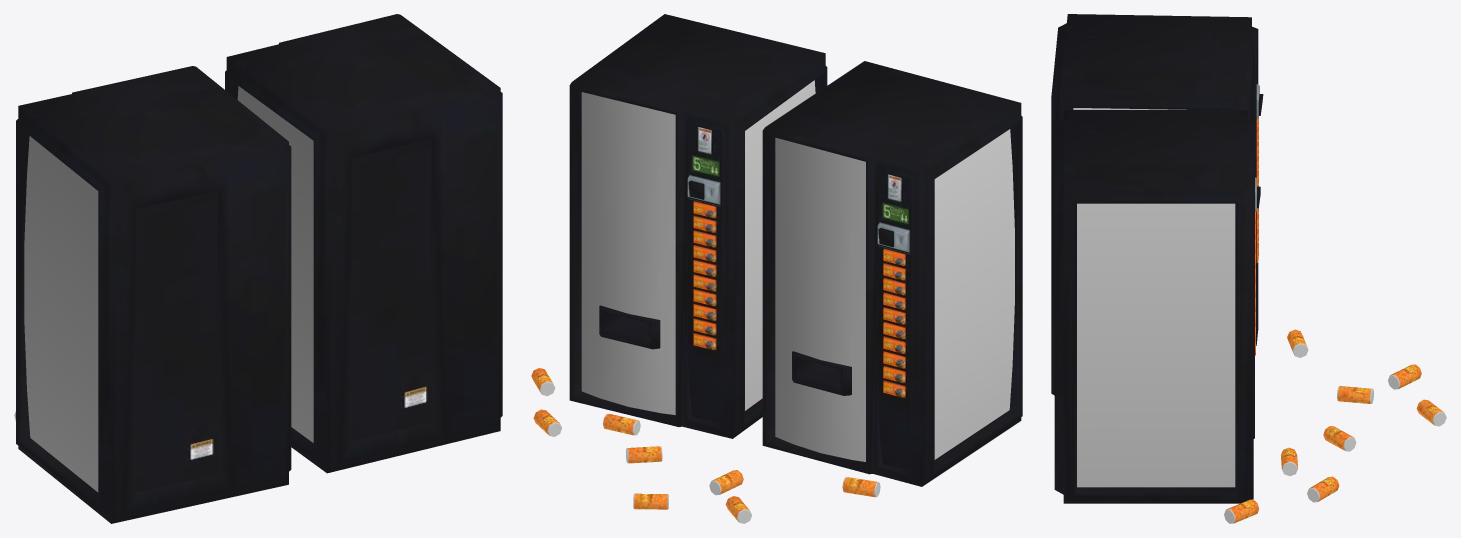
The model's file is soda.glb.
The picture shows the model from 3 angles, left to right: view 1: azimuth 30°, elevation 25°; view 2: azimuth 150°, elevation 25°; view 3: azimuth 270°, elevation 25°; orthographic projection. The views are drawn at different scales.
Visible parts, largest first — view 1: SodaMachine_FizzRoy, SodaMachine_Fynyss; view 2: SodaMachine_FizzRoy, SodaMachine_Fynyss, SodaCan_FizzRoy001, SodaCan_Fynyss004, SodaCan_Fynyss003, SodaCan_FizzRoy002; view 3: SodaMachine_Fynyss, SodaMachine_FizzRoy, SodaCan_FizzRoy, SodaCan_Fynyss, SodaCan_Fynyss002, SodaCan_Fynyss003, SodaCan_Fynyss001, SodaCan_FizzRoy002.
Boxes of the visible parts, x1,y1,x2,y2 form: SodaMachine_FizzRoy: [16, 66, 291, 523]; SodaMachine_Fynyss: [225, 14, 502, 473]; SodaMachine_FizzRoy: [762, 61, 1022, 486]; SodaMachine_Fynyss: [569, 14, 827, 438]; SodaCan_FizzRoy001: [842, 477, 880, 497]; SodaCan_Fynyss004: [603, 414, 640, 435]; SodaCan_Fynyss003: [626, 446, 662, 463]; SodaCan_FizzRoy002: [633, 493, 668, 509]; SodaMachine_Fynyss: [1054, 110, 1260, 503]; SodaMachine_FizzRoy: [1051, 14, 1263, 395]; SodaCan_FizzRoy: [1337, 386, 1373, 403]; SodaCan_Fynyss: [1224, 499, 1259, 523]; SodaCan_Fynyss002: [1388, 364, 1421, 389]; SodaCan_Fynyss003: [1323, 426, 1356, 451]; SodaCan_Fynyss001: [1307, 476, 1339, 502]; SodaCan_FizzRoy002: [1416, 399, 1446, 426].
Bounding box in the file's own units: 2.58 × 1.9 × 2.16.
Materials: 2 (1 with a texture image).
